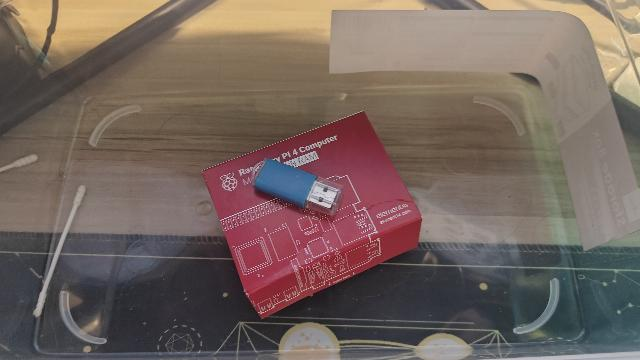rpi_box: (201, 110, 427, 314)
sdcard_reader: (249, 157, 344, 216)
